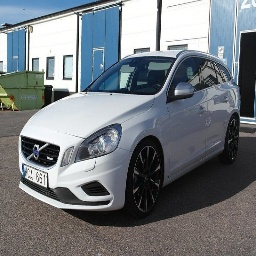sv_licence_plate: (21, 162, 51, 189)
